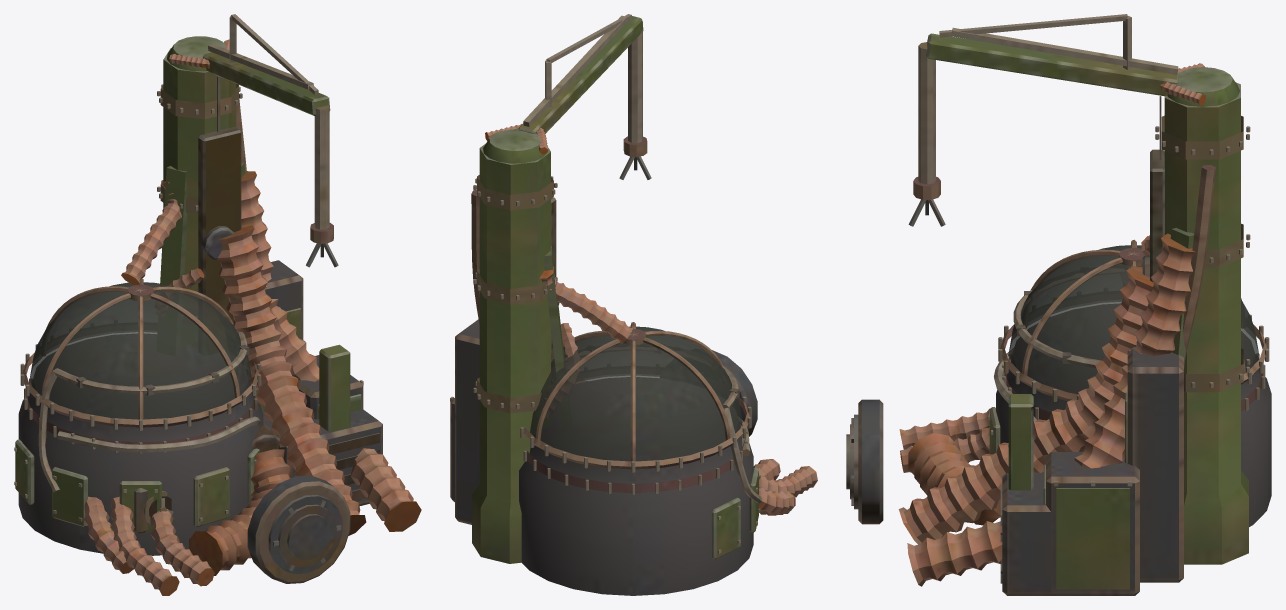
The model's file is agricultural-tower.glb.
3 renders of one model, left to right at view 1: azimuth 30°, elevation 25°; view 2: azimuth 150°, elevation 25°; view 3: azimuth 270°, elevation 25°, orthographic. The views are drawn at different scales.
Parts seen in each view (by area): view 1: body, anim_spin_crane; view 2: body, anim_spin_crane; view 3: body, anim_spin_crane.
Boxes of the visible parts, x1,y1,x2,y2 form: body: [14, 48, 421, 595]; anim_spin_crane: [167, 14, 338, 267]; body: [450, 143, 817, 595]; anim_spin_crane: [483, 14, 651, 179]; body: [846, 82, 1271, 595]; anim_spin_crane: [908, 14, 1239, 226].
Size of the model in its own units: 3.11 by 4.68 by 3.4.
Materials: 2 (2 with a texture image).
